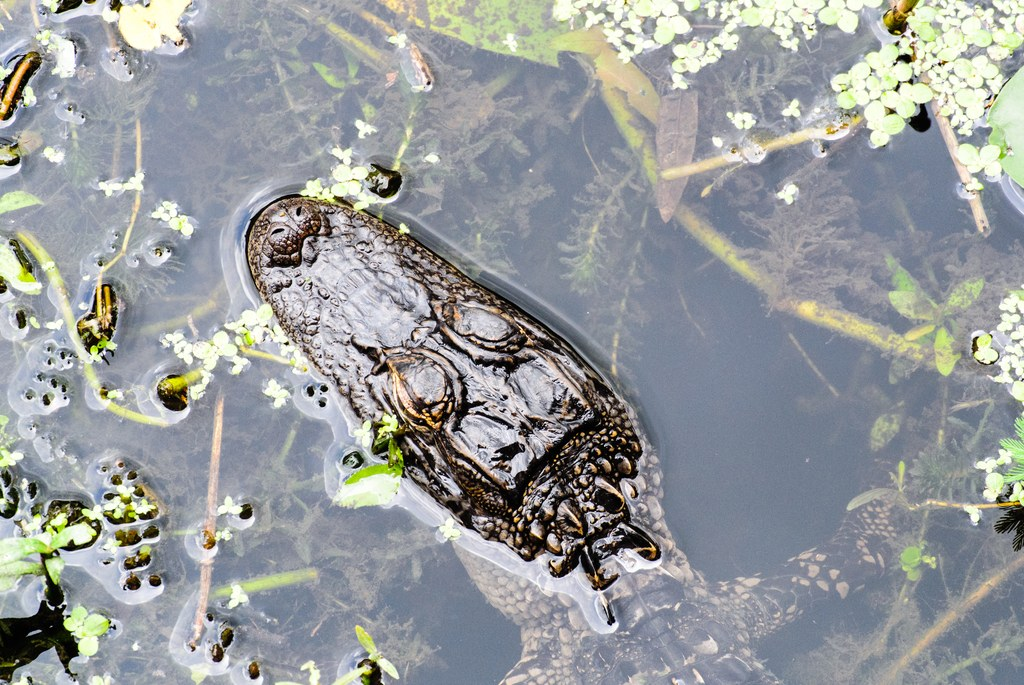insect: (0, 0, 1023, 684), (243, 196, 662, 624)
